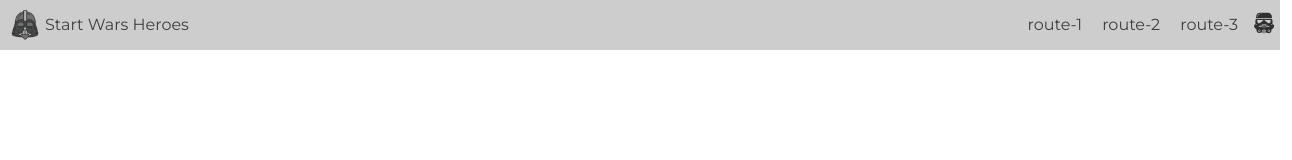
Navigation › should display a light mask (to change theme to light) after toggling theme to dark
Step 1. Click the button with alt text "Toggle Theme to dark" → (1264, 25), box [1248, 6, 1280, 44]
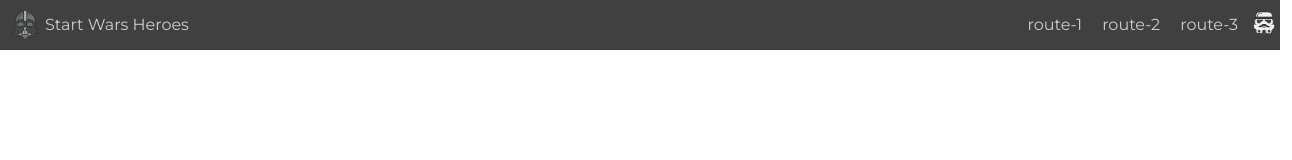
Check: the picture with alt text "Toggle Theme to light" is shown, box [1248, 7, 1280, 39]
